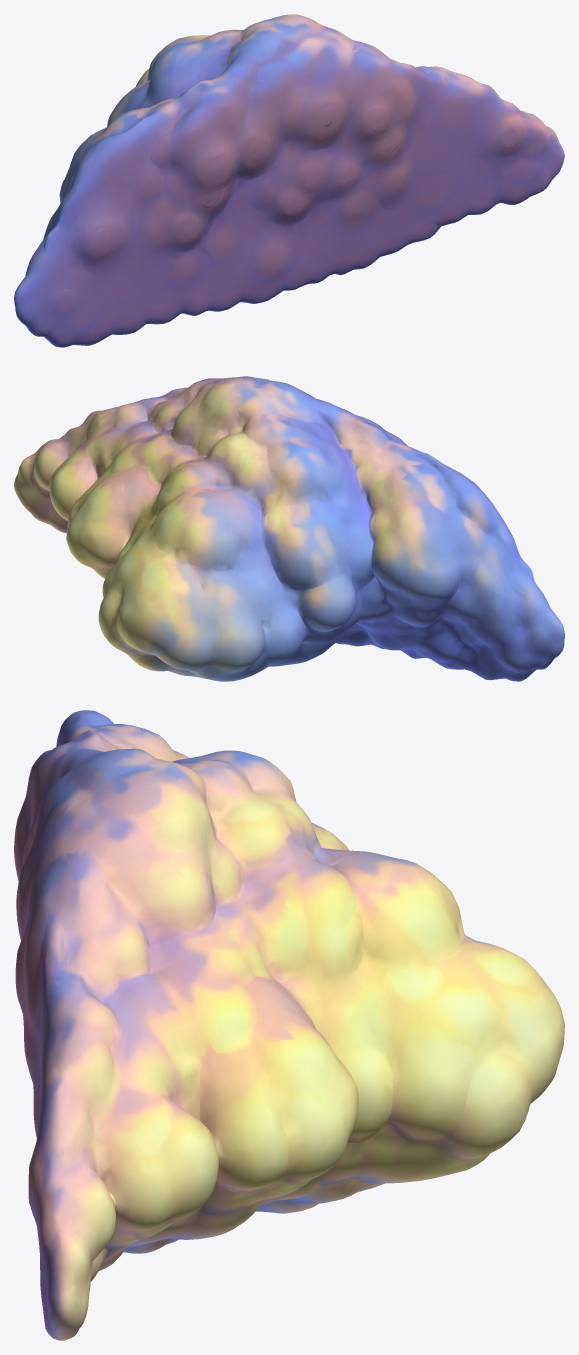
The model's file is Cloud.fbx.
3 renders of one model, top to bottom at view 1: azimuth 30°, elevation 25°; view 2: azimuth 150°, elevation 25°; view 3: azimuth 270°, elevation 25°, orthographic. The views are drawn at different scales.
Visible parts, largest first — view 1: Cloud; view 2: Cloud; view 3: Cloud.
Part boxes in pixels (<box>): Cloud: <box>14,14,564,347</box>; Cloud: <box>14,376,564,681</box>; Cloud: <box>14,710,564,1340</box>.
Size of the model in its own units: 99.81 by 44.65 by 49.35.
Materials: 1 (1 with a texture image).
